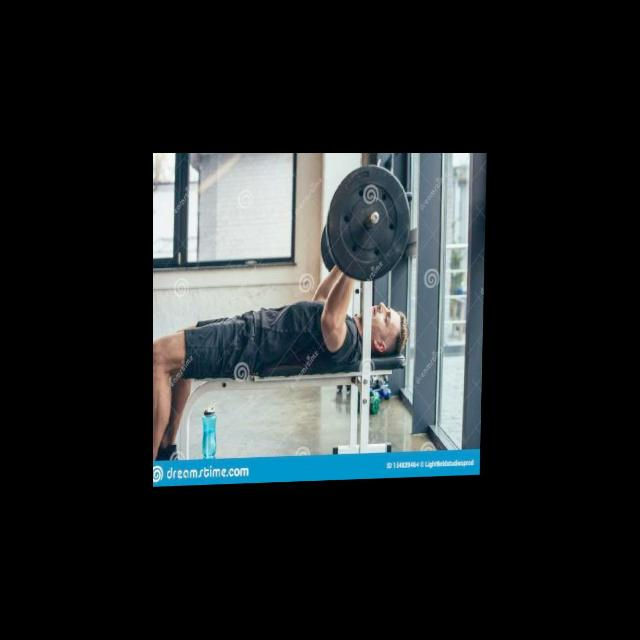barbell: (327, 161, 412, 286)
